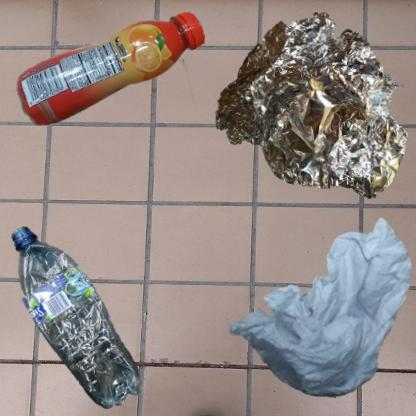aluminio: (213, 10, 409, 201)
botella: (10, 213, 152, 416), (10, 10, 223, 133)
papel: (213, 213, 416, 416)
